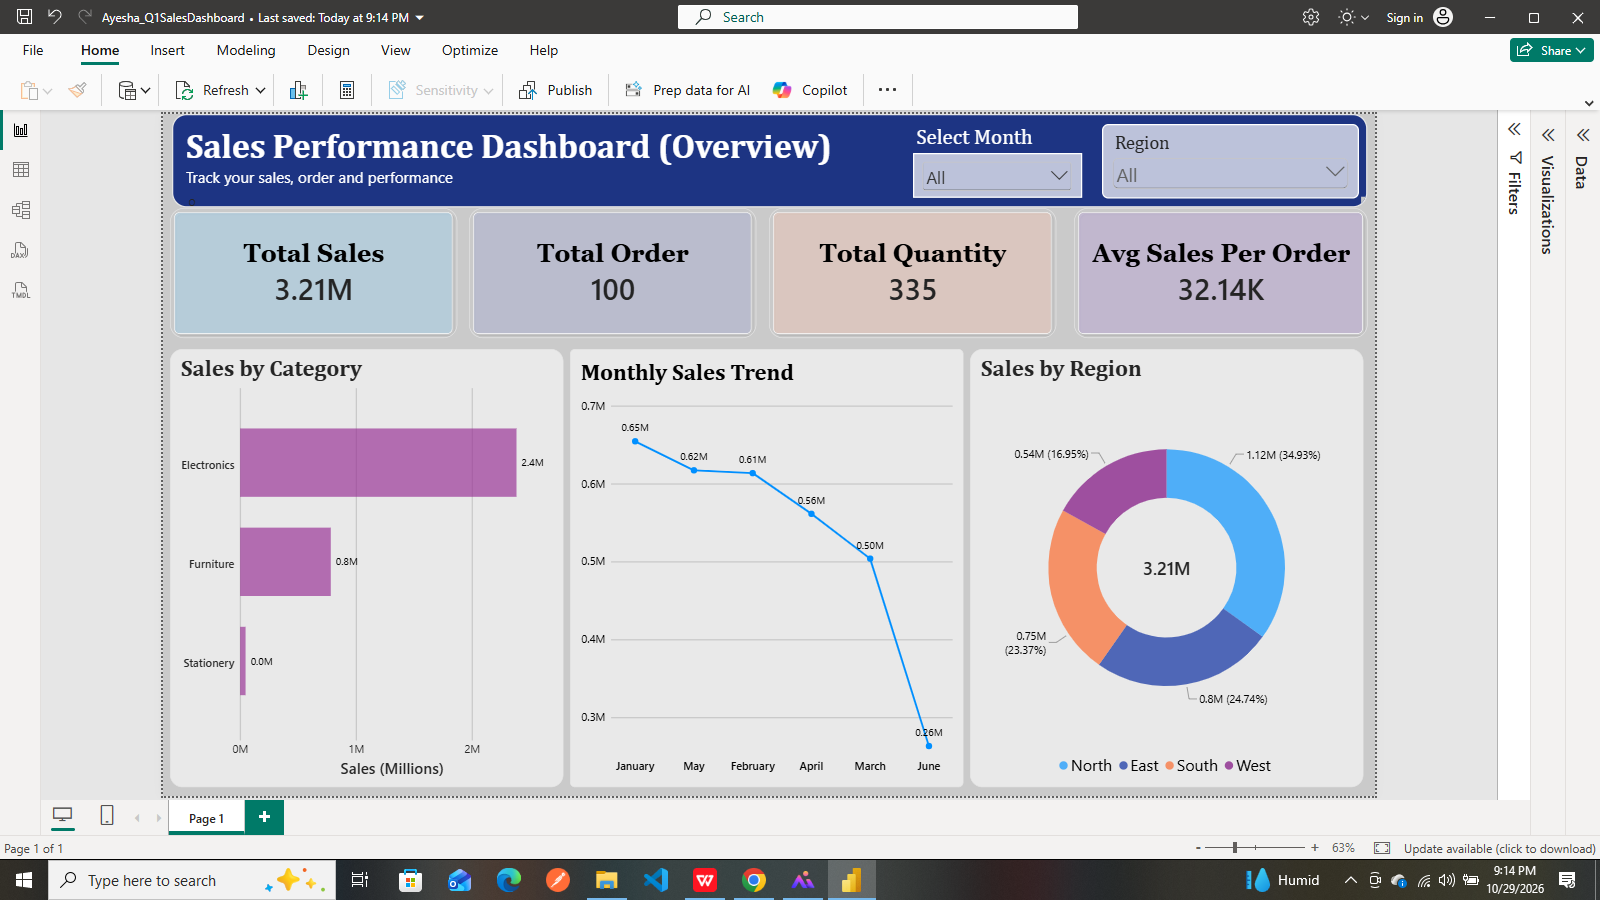

The page's visual inventory and layout, read from the dashboard file:
{"tool":"powerbi","page":{"name":"Page 1","canvas":[1920,1080],"ordinal":0},"visuals":[{"type":"textbox","title":"Sales Performance Dashboard (Overview)","box":[13.5,0,1893,148.4],"z":0},{"type":"cardVisual","title":"t","fields":{"Data":["Q1_sales_data.TotalSales"]},"box":[11.6,148.4,454.9,206.3],"z":1000},{"type":"cardVisual","fields":{"Data":["Q1_sales_data.TotalOrder"]},"box":[483.9,148.4,454.9,206.3],"z":2000},{"type":"cardVisual","fields":{"Data":["Q1_sales_data.TotalQuantity"]},"box":[960,148.4,454.9,206.3],"z":3000},{"type":"cardVisual","title":"Total","fields":{"Data":["Q1_sales_data.AvgSalesPerOrder"]},"box":[1441.9,148.4,464.6,206.3],"z":4000},{"type":"barChart","title":"Sales by Category","fields":{"Category":["Q1_sales_data.Category"],"Y":["Sum(Q1_sales_data.Sales)"]},"box":[11.6,372,622.7,694],"z":5000},{"type":"slicer","fields":{"Values":["Q1_sales_data.Region"]},"box":[1486.3,15.4,406.7,117.6],"z":7000},{"type":"slicer","title":"month","fields":{"Values":["Q1_sales_data.Month"]},"box":[1187.5,61.7,268,71.3],"z":8000},{"type":"textbox","title":" Select   Month","box":[1187.5,13.5,268,48.2],"z":9000},{"type":"lineChart","title":"Monthly Sales Trend","fields":{"Category":["Q1_sales_data.Month"],"Y":["Sum(Q1_sales_data.Sales)"]},"box":[643.9,372,622.7,694],"z":10000},{"type":"donutChart","title":"Sales by Region","fields":{"Category":["Q1_sales_data.Region"],"Y":["Sum(Q1_sales_data.Sales)"]},"box":[1278.1,372,622.7,694],"z":10001}]}

Visuals, with their boxes on the page's 1920x1080 design canvas (x1, y1, x2, y2). These are canvas units, not pixel positions in the 1600x900 screenshot, which may show the page scaled, cropped or inside an application window:
"Sales Performance Dashboard (Overview)" textbox: (left=14, top=0, right=1906, bottom=148)
"t" cardVisual: (left=12, top=148, right=466, bottom=355)
cardVisual - Q1_sales_data.TotalOrder: (left=484, top=148, right=939, bottom=355)
cardVisual - Q1_sales_data.TotalQuantity: (left=960, top=148, right=1415, bottom=355)
"Total" cardVisual: (left=1442, top=148, right=1906, bottom=355)
"Sales by Category" barChart: (left=12, top=372, right=634, bottom=1066)
slicer - Q1_sales_data.Region: (left=1486, top=15, right=1893, bottom=133)
"month" slicer: (left=1188, top=62, right=1456, bottom=133)
" Select   Month" textbox: (left=1188, top=14, right=1456, bottom=62)
"Monthly Sales Trend" lineChart: (left=644, top=372, right=1267, bottom=1066)
"Sales by Region" donutChart: (left=1278, top=372, right=1901, bottom=1066)
